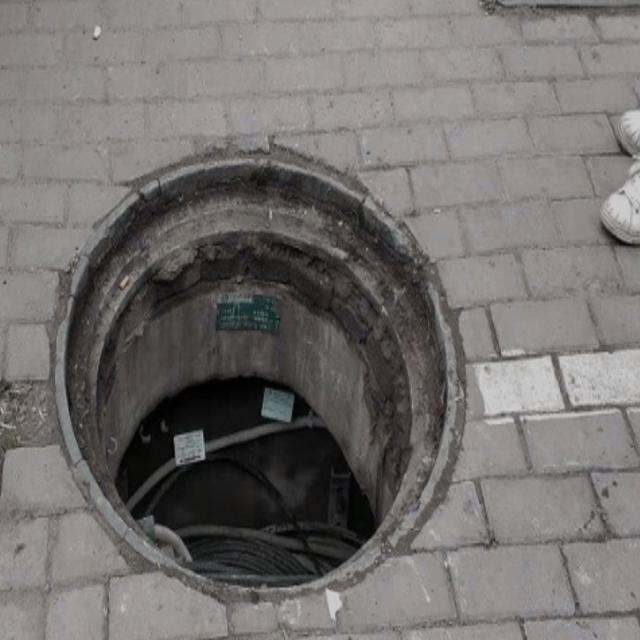lose: (38, 116, 473, 604)
